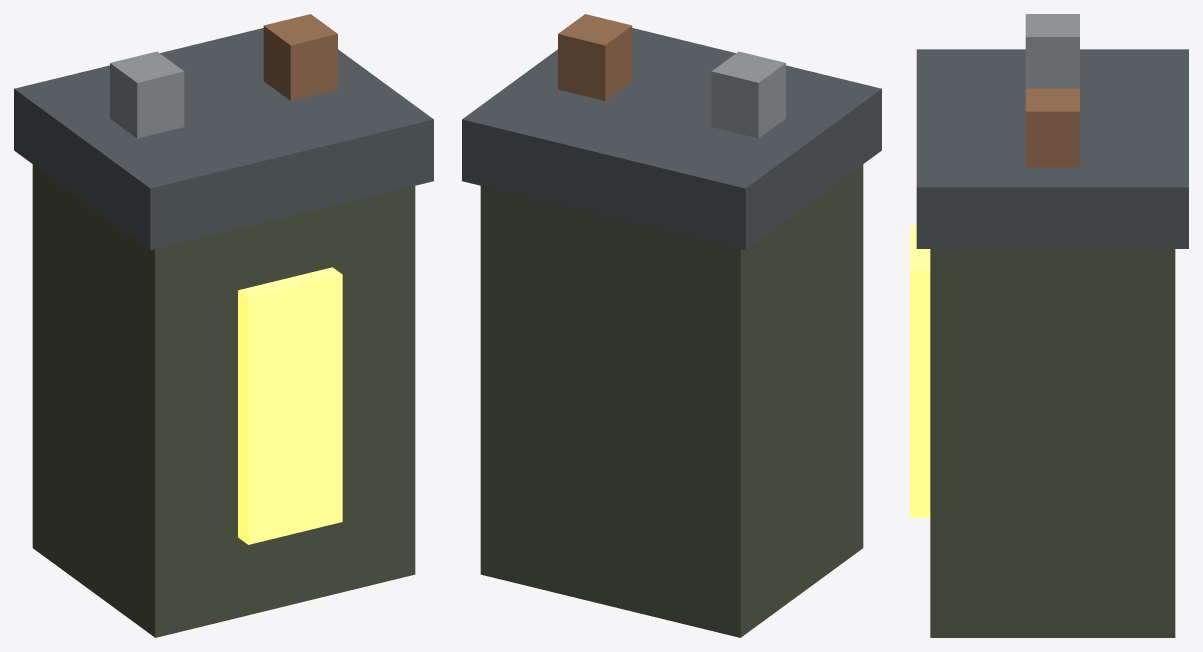
The model's file is item_good_fuel_cells.glb.
3 renders of one model, left to right at view 1: azimuth 30°, elevation 25°; view 2: azimuth 150°, elevation 25°; view 3: azimuth 270°, elevation 25°, orthographic.
Visible parts, largest first — view 1: body, top, window, post_b, post_a; view 2: body, top, post_b, post_a; view 3: body, top, window, post_b, post_a.
Boxes of the visible parts, left/top/right/bottom form: body: left=32, top=164, right=415, bottom=637; top: left=14, top=28, right=433, bottom=250; window: left=238, top=267, right=342, bottom=544; post_b: left=263, top=14, right=337, bottom=100; post_a: left=110, top=51, right=184, bottom=138; body: left=480, top=164, right=863, bottom=637; top: left=462, top=28, right=881, bottom=250; post_b: left=558, top=14, right=632, bottom=100; post_a: left=711, top=51, right=785, bottom=138; body: left=930, top=249, right=1175, bottom=637; top: left=916, top=49, right=1188, bottom=248; window: left=910, top=225, right=930, bottom=517; post_b: left=1025, top=88, right=1079, bottom=167; post_a: left=1025, top=14, right=1079, bottom=88.
Size of the model in its own units: 0.48 by 0.83 by 0.41.
